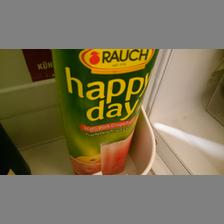Saft: (50, 48, 158, 174)
